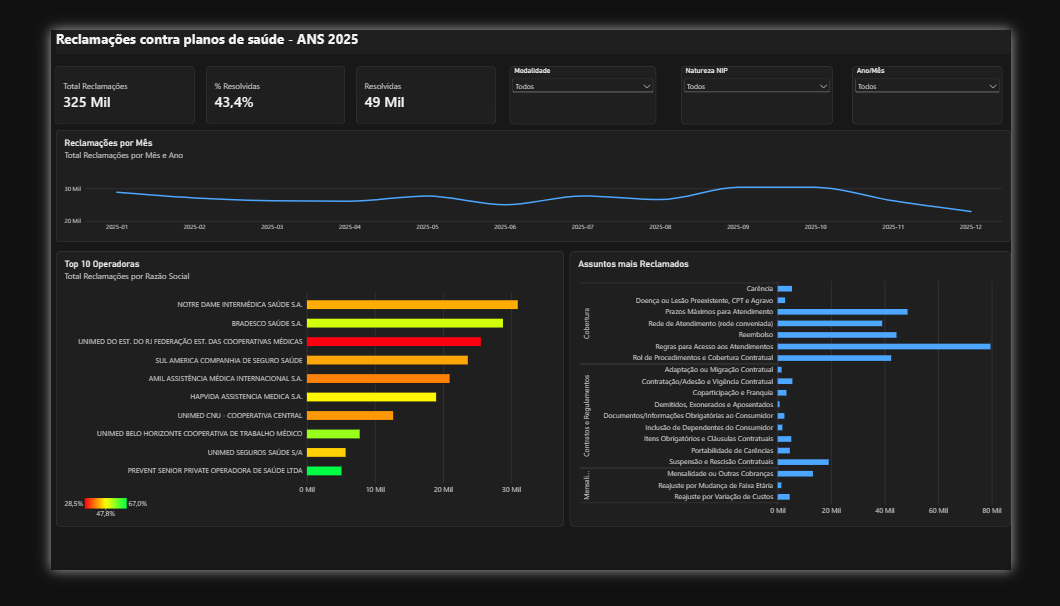

This screenshot's page, from the dashboard's own definition file:
{"tool":"powerbi","page":{"name":"Página 1","canvas":[1920,1080],"ordinal":0},"visuals":[{"type":"cardVisual","fields":{"Data":["_Medidas.Total Reclamacoes"]},"box":[7.1,71.4,280.4,116.1],"z":0},{"type":"cardVisual","title":"Reclamações por Mês","fields":{"Data":["_Medidas.% Resolucao"]},"box":[308.9,71.4,278.6,116.1],"z":1000},{"type":"cardVisual","fields":{"Data":["_Medidas.Resolvidas"]},"box":[608.9,71.4,280.4,116.1],"z":2000},{"type":"lineChart","title":"Reclamações por Mês","fields":{"Category":["dCalendario.Ano Mes"],"Y":["_Medidas.Total Reclamacoes"]},"box":[9.6,200.6,1909.2,224.4],"z":3000},{"type":"clusteredBarChart","title":"Top 10 Operadoras","fields":{"Category":["dOperadora.RAZAO_SOCIAL"],"Y":["_Medidas.Total Reclamacoes"]},"box":[8.9,442.9,1016.1,550],"z":4000},{"type":"clusteredBarChart","title":"Assuntos mais Reclamados","fields":{"Category":["dAssunto.ASSUNTO_N2","dAssunto.ASSUNTO_N3"],"Y":["_Medidas.Total Reclamacoes"]},"box":[1037.6,443.1,881.3,550.1],"z":5000},{"type":"textbox","box":[10.7,0,1908.9,48.2],"z":6000},{"type":"slicer","fields":{"Values":["dOperadora.MODALIDADE"]},"box":[917.9,71.4,292.9,116.1],"z":7000},{"type":"slicer","fields":{"Values":["fReclamacoes.NATUREZA_NIP"]},"box":[1258.9,71.4,303.6,116.1],"z":8000},{"type":"slicer","fields":{"Values":["dCalendario.Ano Mes"]},"box":[1603.6,71.4,300,116.1],"z":9000}]}

Visuals, with their boxes in screenshot pixels (x1, y1, x2, y2), scaled from the page's 1920x1080 canvas onto the 1060x606 screenshot:
cardVisual - _Medidas.Total Reclamacoes: [x1=4, y1=40, x2=159, y2=105]
"Reclamações por Mês" cardVisual: [x1=171, y1=40, x2=324, y2=105]
cardVisual - _Medidas.Resolvidas: [x1=336, y1=40, x2=491, y2=105]
"Reclamações por Mês" lineChart: [x1=5, y1=113, x2=1059, y2=238]
"Top 10 Operadoras" clusteredBarChart: [x1=5, y1=249, x2=566, y2=557]
"Assuntos mais Reclamados" clusteredBarChart: [x1=573, y1=249, x2=1059, y2=557]
textbox: [x1=6, y1=0, x2=1059, y2=27]
slicer - dOperadora.MODALIDADE: [x1=507, y1=40, x2=668, y2=105]
slicer - fReclamacoes.NATUREZA_NIP: [x1=695, y1=40, x2=863, y2=105]
slicer - dCalendario.Ano Mes: [x1=885, y1=40, x2=1051, y2=105]
